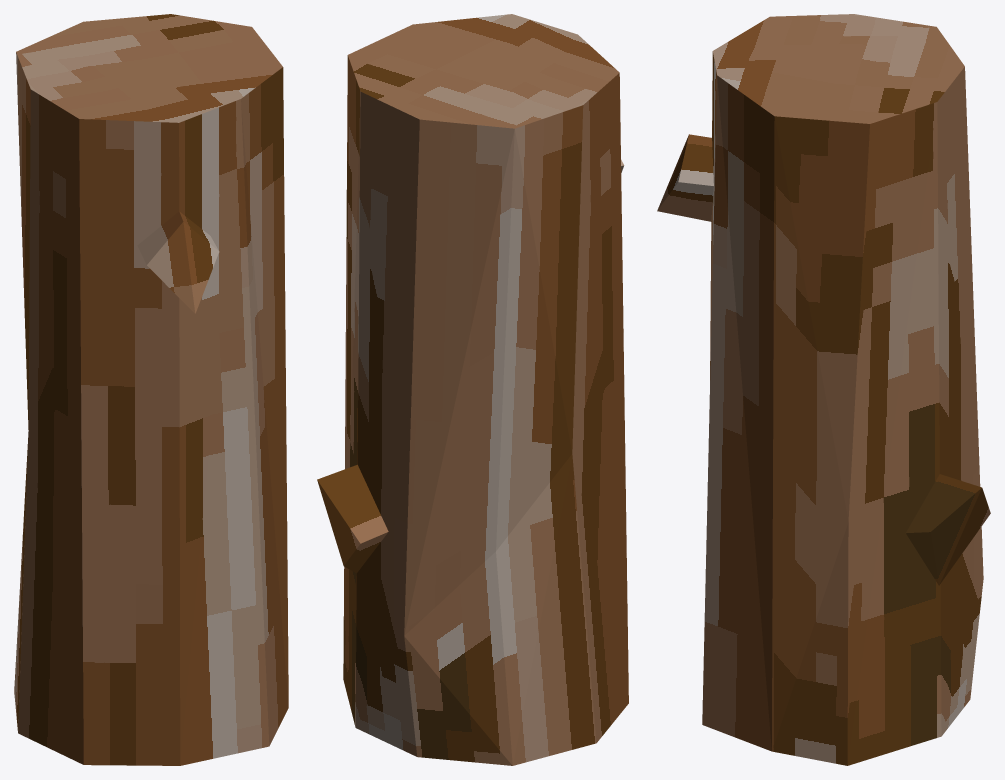
The model's file is log.fbx.
The picture shows the model from 3 angles, left to right: view 1: azimuth 30°, elevation 25°; view 2: azimuth 150°, elevation 25°; view 3: azimuth 270°, elevation 25°; orthographic projection.
Visible parts, largest first — view 1: Log; view 2: Log; view 3: Log.
Boxes of the visible parts, left/top/right/bottom form: Log: left=14, top=14, right=288, bottom=765; Log: left=317, top=14, right=628, bottom=765; Log: left=657, top=14, right=990, bottom=765.
Size of the model in its own units: 20.86 by 50.04 by 23.64.
